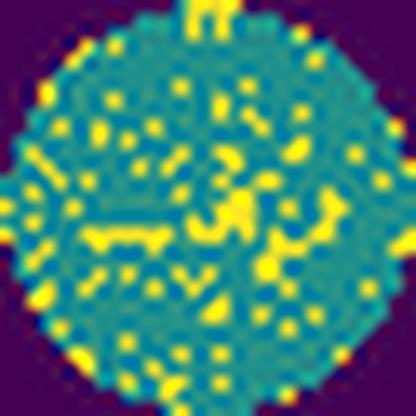Center: (79, 135, 353, 290)
